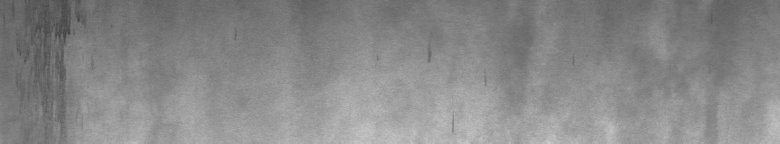ka: (17, 4, 88, 135)
